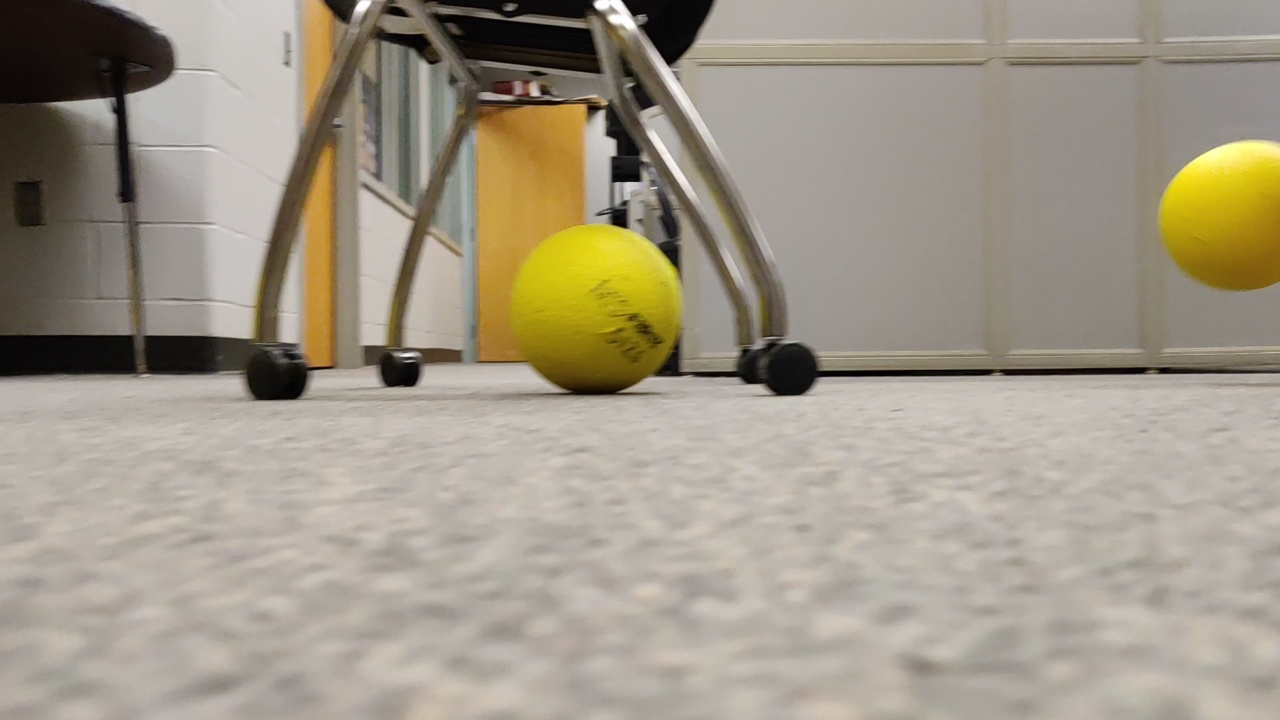Ball: (507, 220, 688, 402), (1149, 131, 1280, 299)
